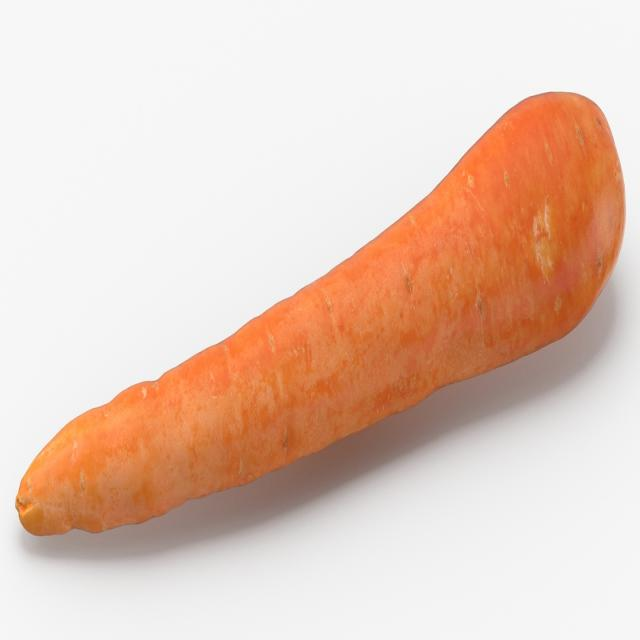Carrot: (17, 91, 627, 539)
